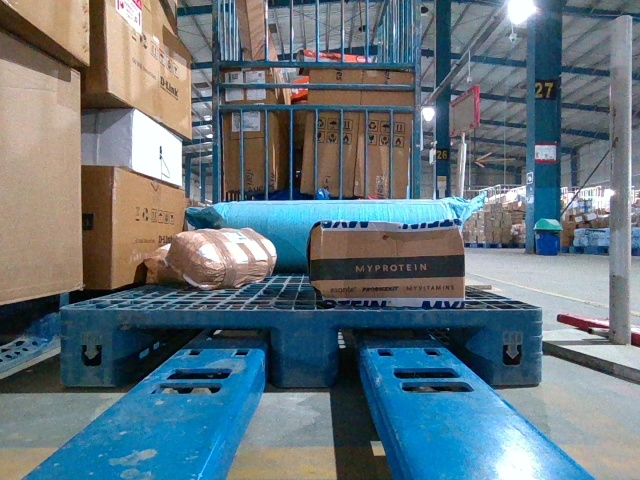block: (60, 307, 119, 389), (274, 309, 335, 388), (484, 308, 540, 389)
front: (61, 306, 541, 384)
hole pallet: (115, 318, 283, 389), (328, 317, 495, 386)
